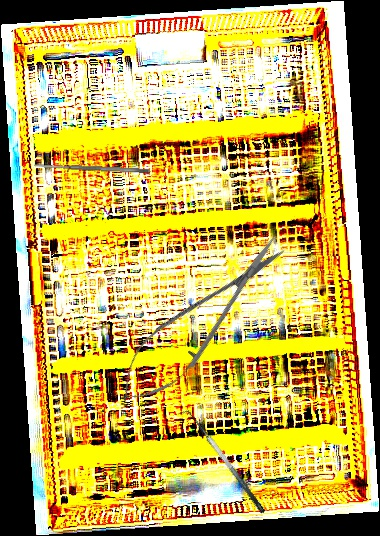Micro Scissor: (103, 223, 300, 420)
Spatula Surgical: (177, 404, 267, 521), (32, 161, 151, 175)
